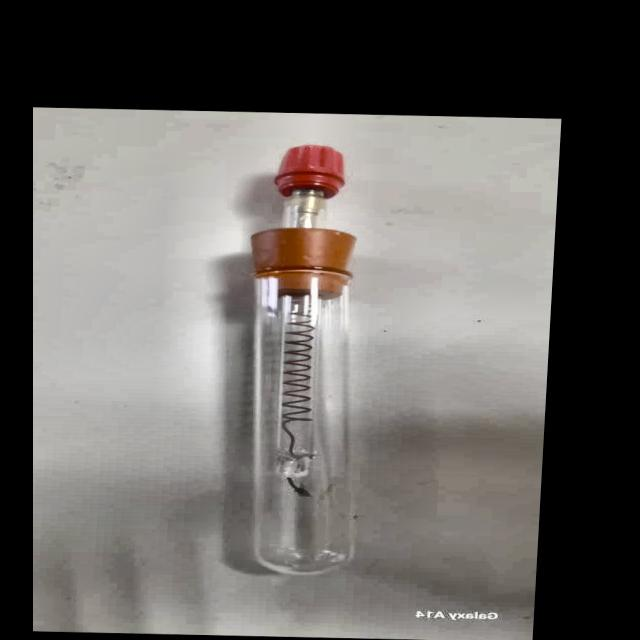Electrode: (215, 141, 403, 588)
